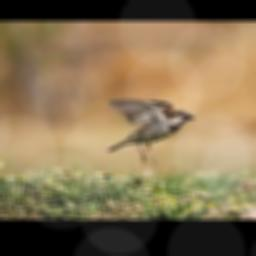Sparrow: (106, 99, 194, 167)
